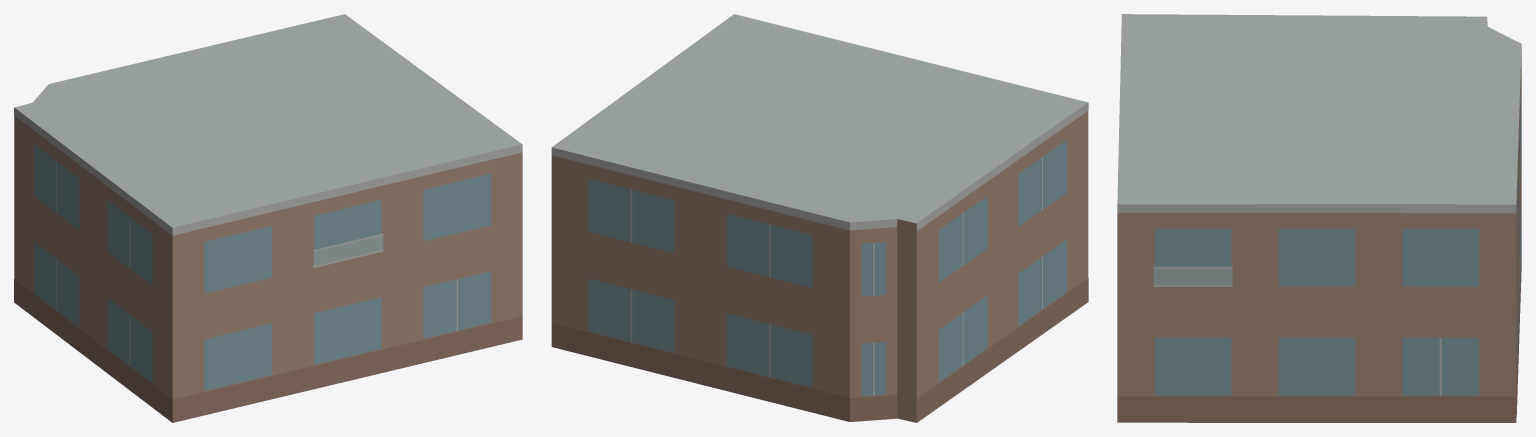
File: survey-upis-33018260.glb
3 renders of one model, left to right at view 1: azimuth 30°, elevation 25°; view 2: azimuth 150°, elevation 25°; view 3: azimuth 270°, elevation 25°, orthographic. The views are drawn at different scales.
Parts seen in each view (by area): view 1: survey-upis-33018260.tmp; view 2: survey-upis-33018260.tmp; view 3: survey-upis-33018260.tmp.
Boxes of the visible parts, x1=… form: survey-upis-33018260.tmp: x1=14, y1=14, x2=522, y2=422; survey-upis-33018260.tmp: x1=551, y1=14, x2=1088, y2=422; survey-upis-33018260.tmp: x1=1117, y1=14, x2=1521, y2=422.
Size of the model in its own units: 11.45 by 6.1 by 10.24.
